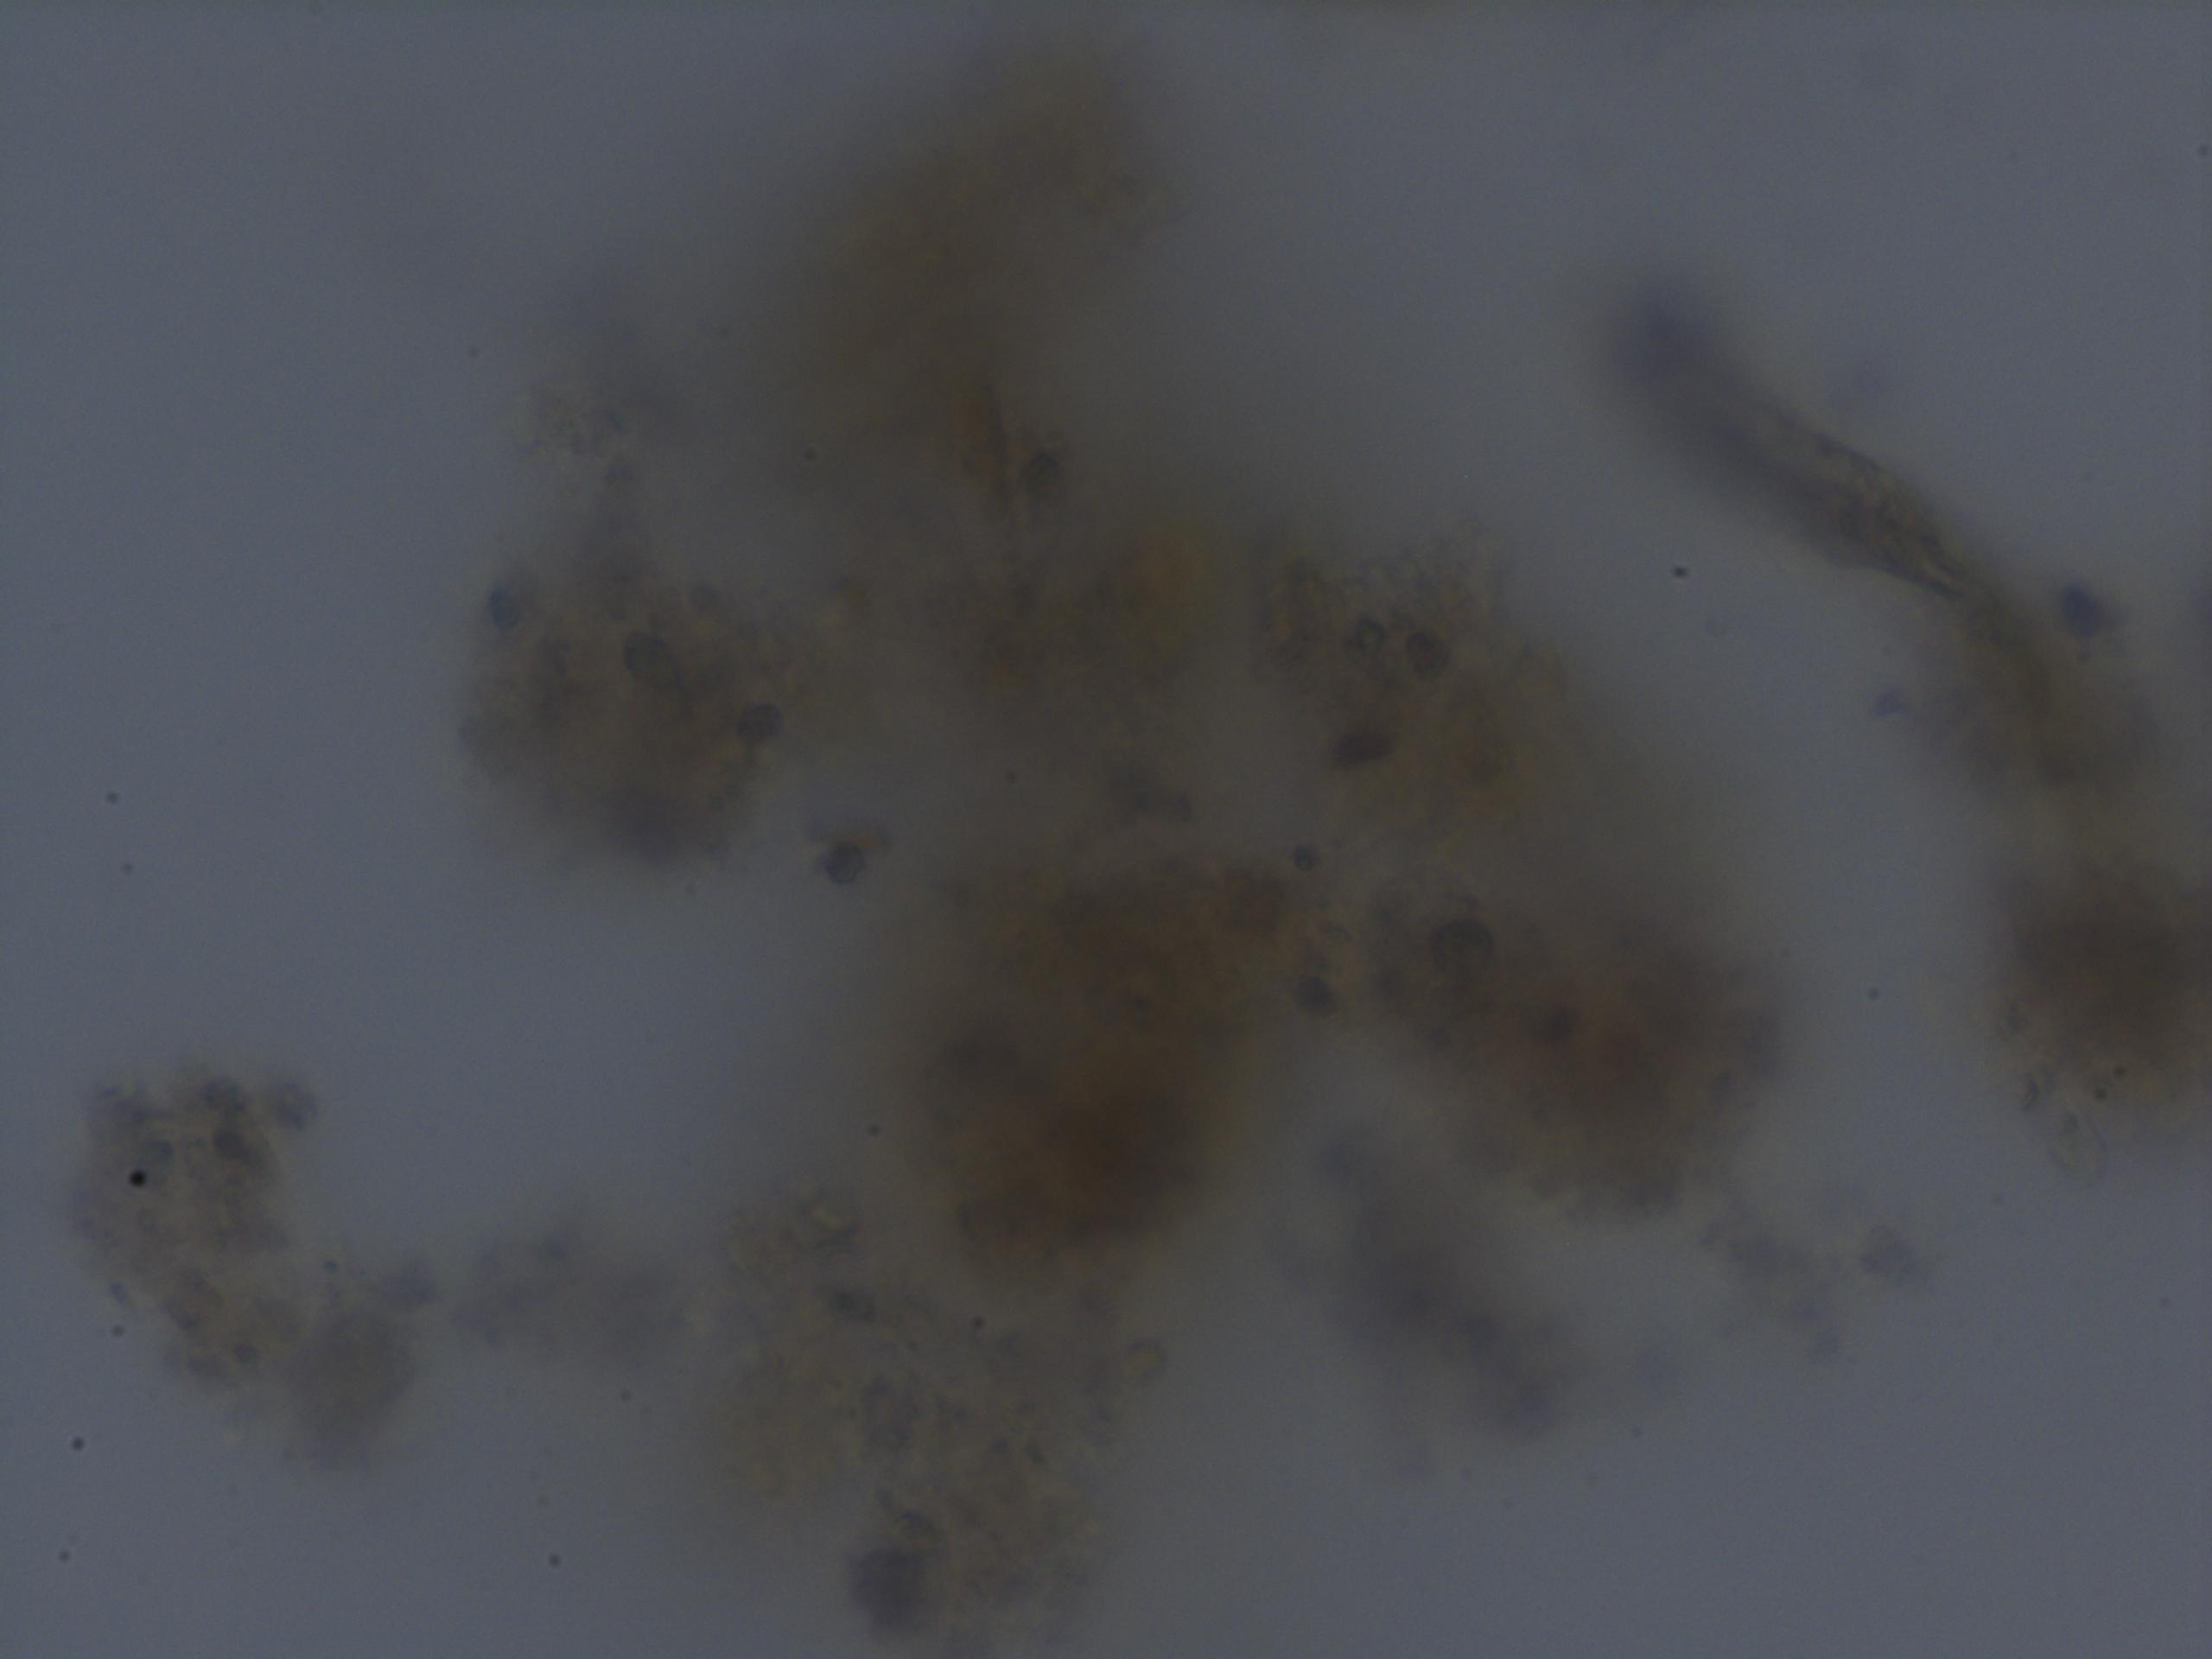open_floc: (56, 10, 1782, 1657)
